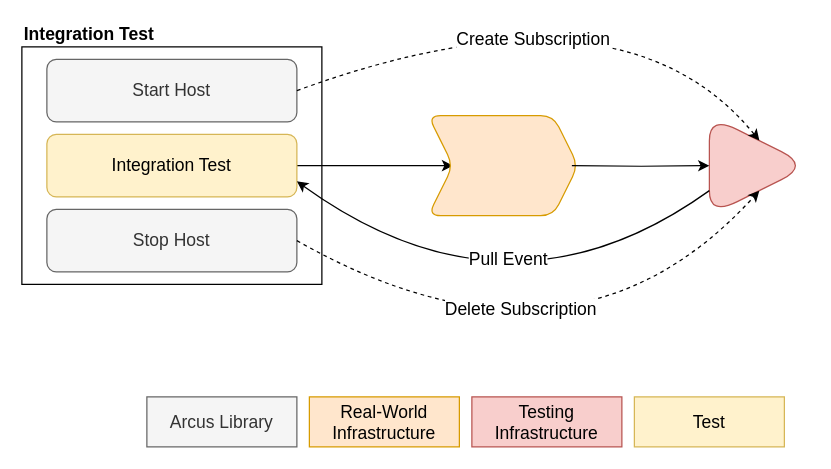
This 831x469 diagram has some shape labels left out. The centre of each missing label's shape, as x and y in pixels:
"Event Grid Topic" goes at (502,165).
"Topic" goes at (758,165).
